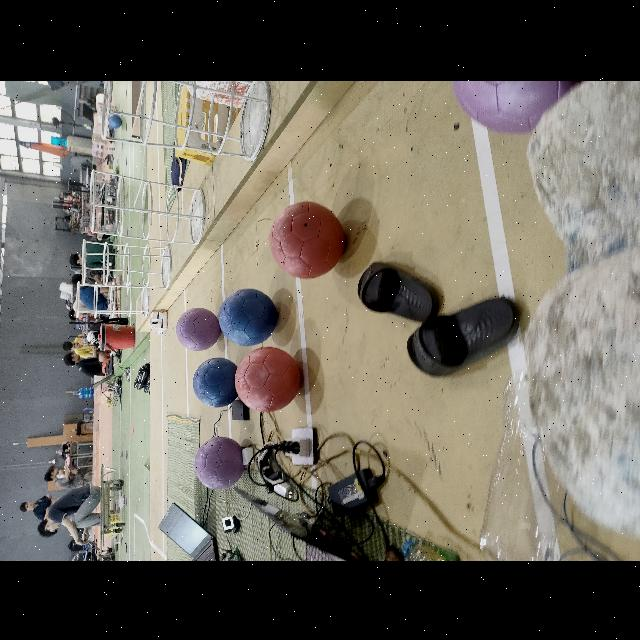B: (218, 288, 278, 344), (192, 357, 238, 407)
P: (451, 80, 599, 132), (194, 436, 243, 488), (176, 308, 220, 350)
R: (270, 201, 344, 277), (234, 347, 300, 411)
S: (102, 80, 276, 154), (82, 176, 206, 248), (76, 244, 176, 288), (73, 280, 161, 322)
